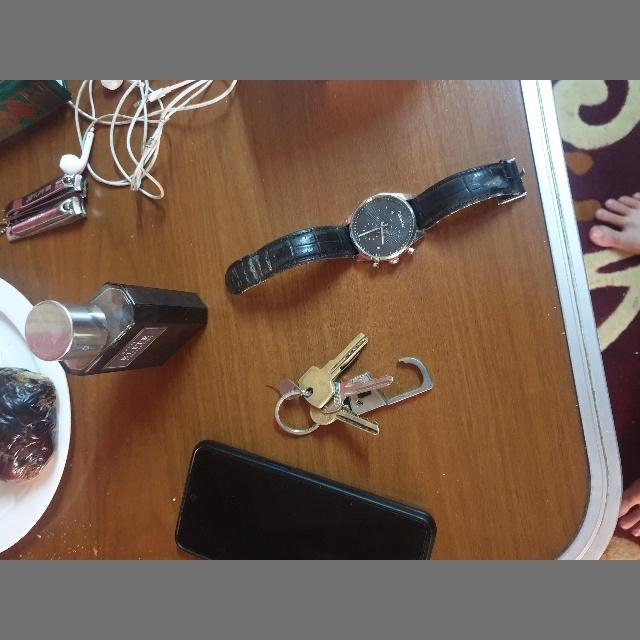Keys: (204, 199, 374, 309)
